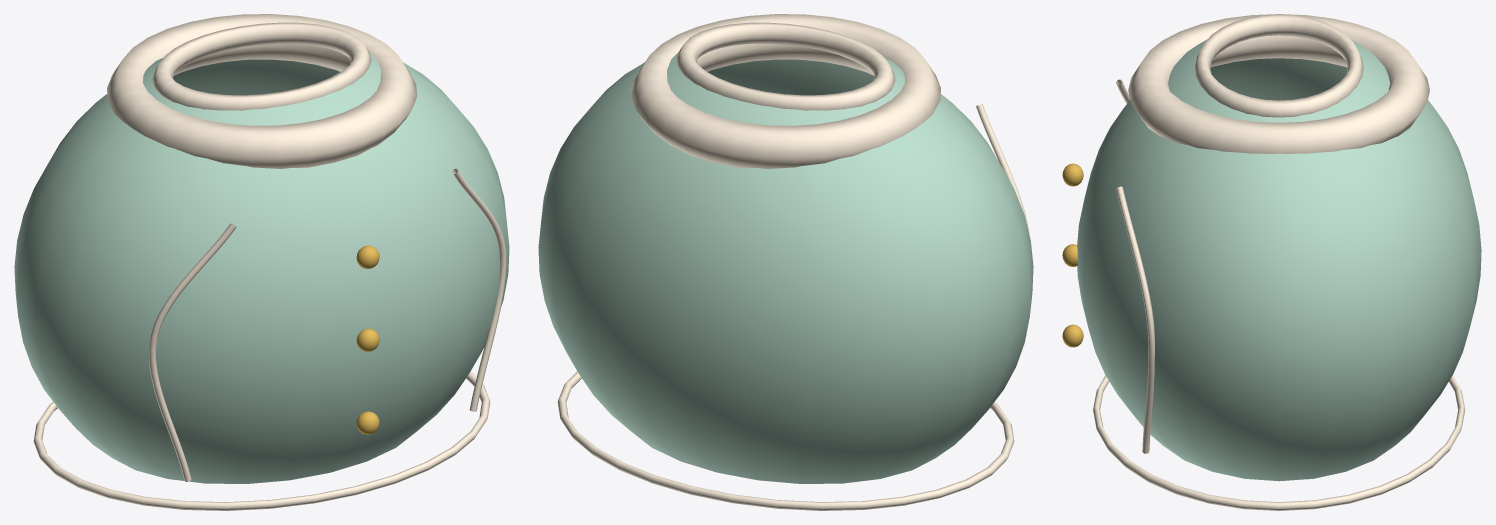
File: coat_cloud.glb
3 renders of one model, left to right at view 1: azimuth 30°, elevation 25°; view 2: azimuth 150°, elevation 25°; view 3: azimuth 270°, elevation 25°, orthographic. The views are drawn at different scales.
Parts seen in each view (by area): view 1: Abrigo nube; view 2: Abrigo nube; view 3: Abrigo nube.
Boxes of the visible parts, x1=… form: Abrigo nube: x1=14, y1=14, x2=509, y2=510; Abrigo nube: x1=538, y1=14, x2=1033, y2=510; Abrigo nube: x1=1062, y1=14, x2=1481, y2=510.
Bounding box in the file's own units: 0.5698 × 0.4397 × 0.4719.
